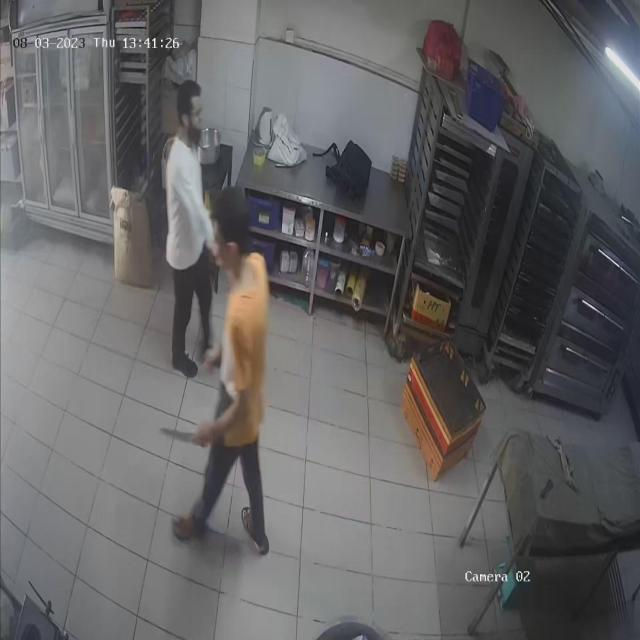Knife: (162, 422, 218, 452)
